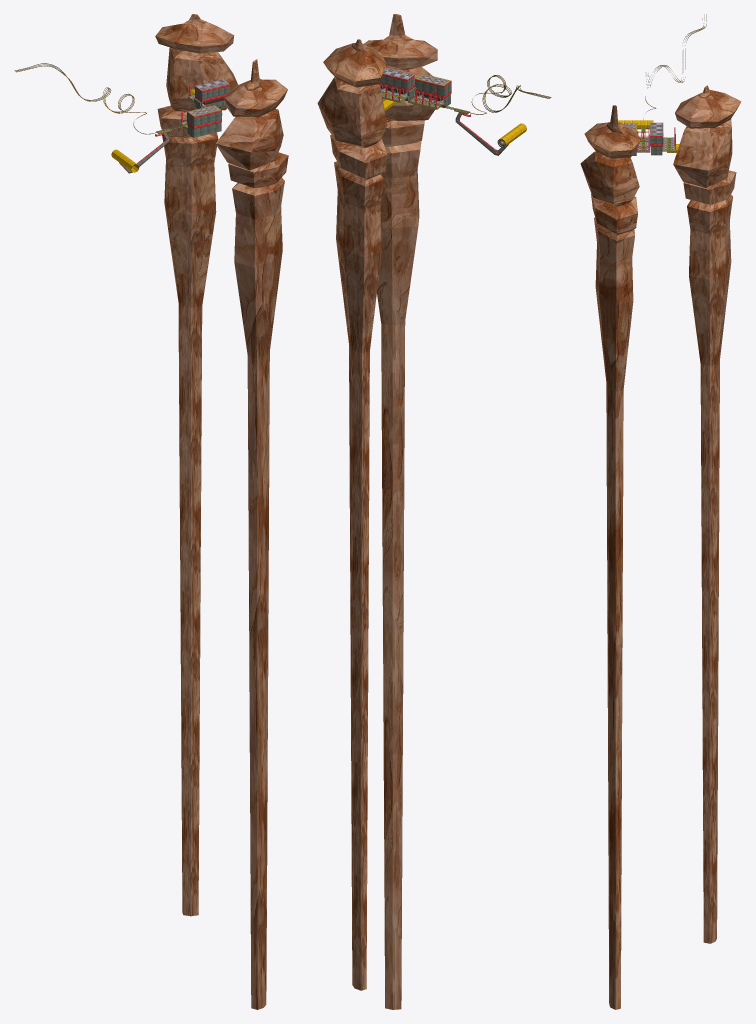
The model's file is railcanyon6.obj.
The picture shows the model from 3 angles, left to right: view 1: azimuth 30°, elevation 25°; view 2: azimuth 150°, elevation 25°; view 3: azimuth 270°, elevation 25°; orthographic projection. The views are drawn at different scales.
Visible parts, largest first — view 1: Object_2; view 2: Object_2, obj1; view 3: Object_2, obj1.
Boxes of the visible parts, x1,y1,x2,y2 form: Object_2: [14, 14, 288, 1009]; Object_2: [317, 14, 551, 1009]; obj1: [380, 67, 469, 114]; Object_2: [580, 14, 741, 1009]; obj1: [624, 122, 675, 151].
Size of the model in its own units: 4459 by 18015 by 2883.
33 materials, 31 textured.
